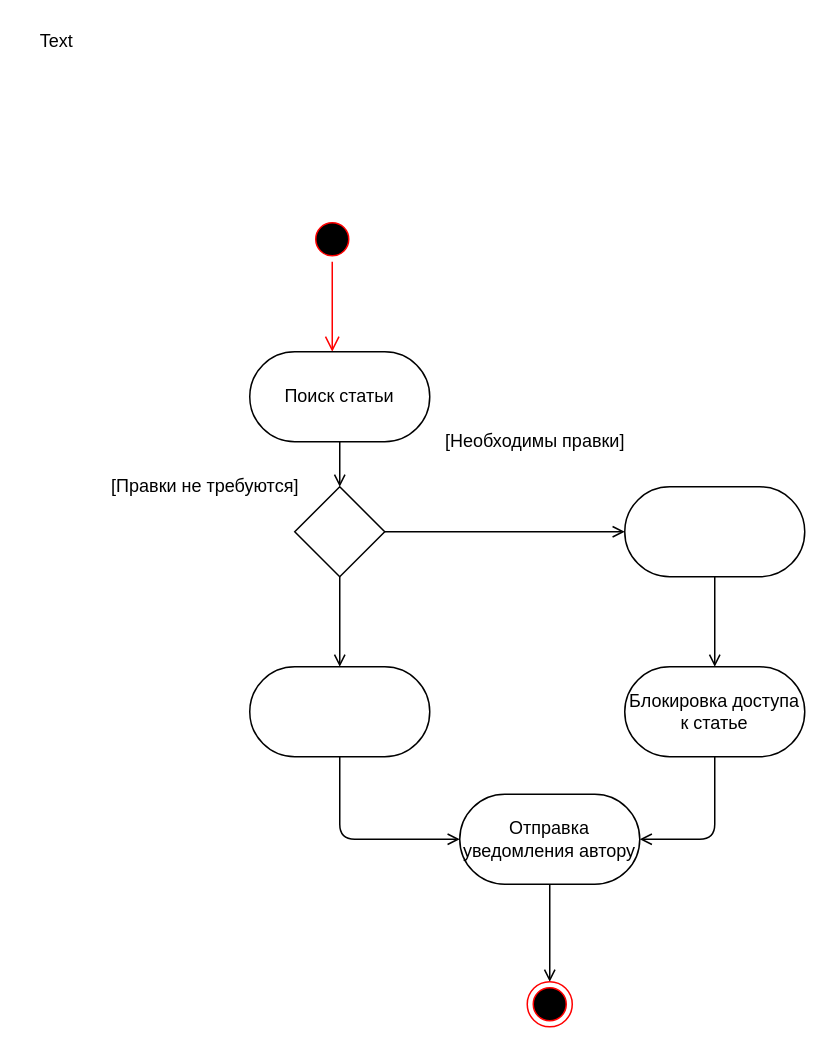
Some shapes in this 831 by 1053 pixel diagram are drawn without their labels. Each missing label, with the centre of its shape:
Добавление примечаний: the point at 714,531
Разрешение на публикацию: the point at 339,711
